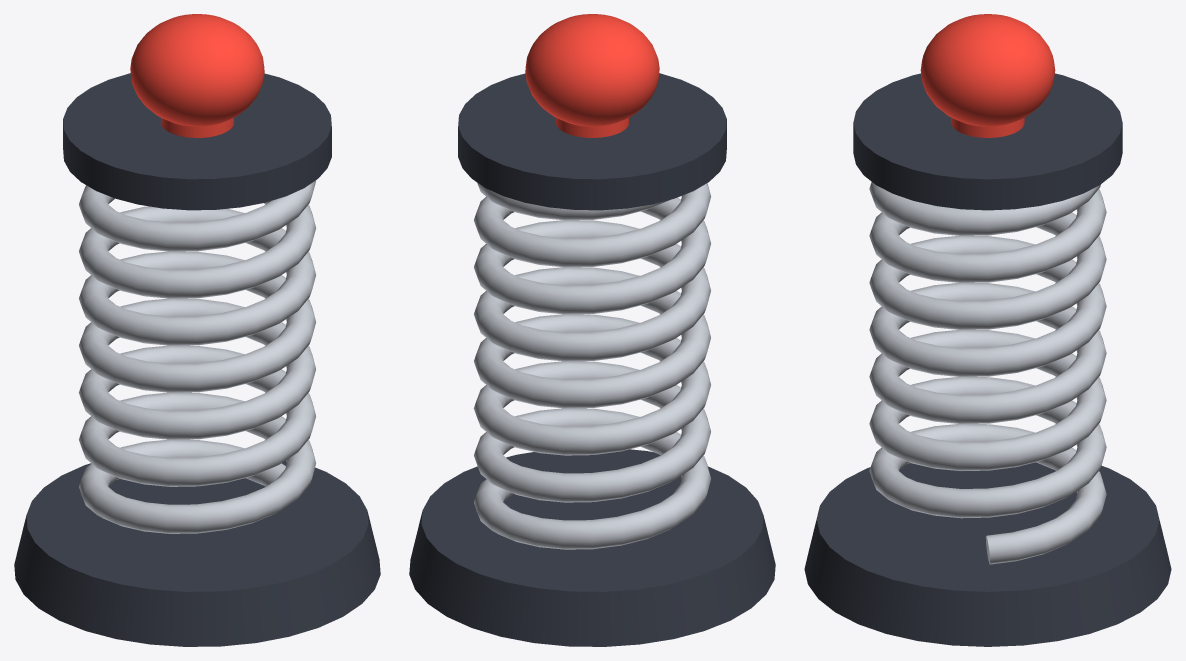
The model's file is Spring.glb.
3 views of the same model, side by side, from view 1: azimuth 30°, elevation 25°; view 2: azimuth 150°, elevation 25°; view 3: azimuth 270°, elevation 25° (orthographic).
Parts seen in each view (by area): view 1: SpringCoil, SpringBase; view 2: SpringCoil, SpringBase; view 3: SpringCoil, SpringBase.
Boxes of the visible parts, x1,y1,x2,y2 form: SpringCoil: (63, 14, 331, 533); SpringBase: (14, 460, 380, 646); SpringCoil: (458, 14, 726, 549); SpringBase: (409, 449, 775, 646); SpringCoil: (853, 14, 1122, 564); SpringBase: (804, 462, 1171, 646).
Bounding box in the file's own units: 0.3 × 0.494 × 0.3.
